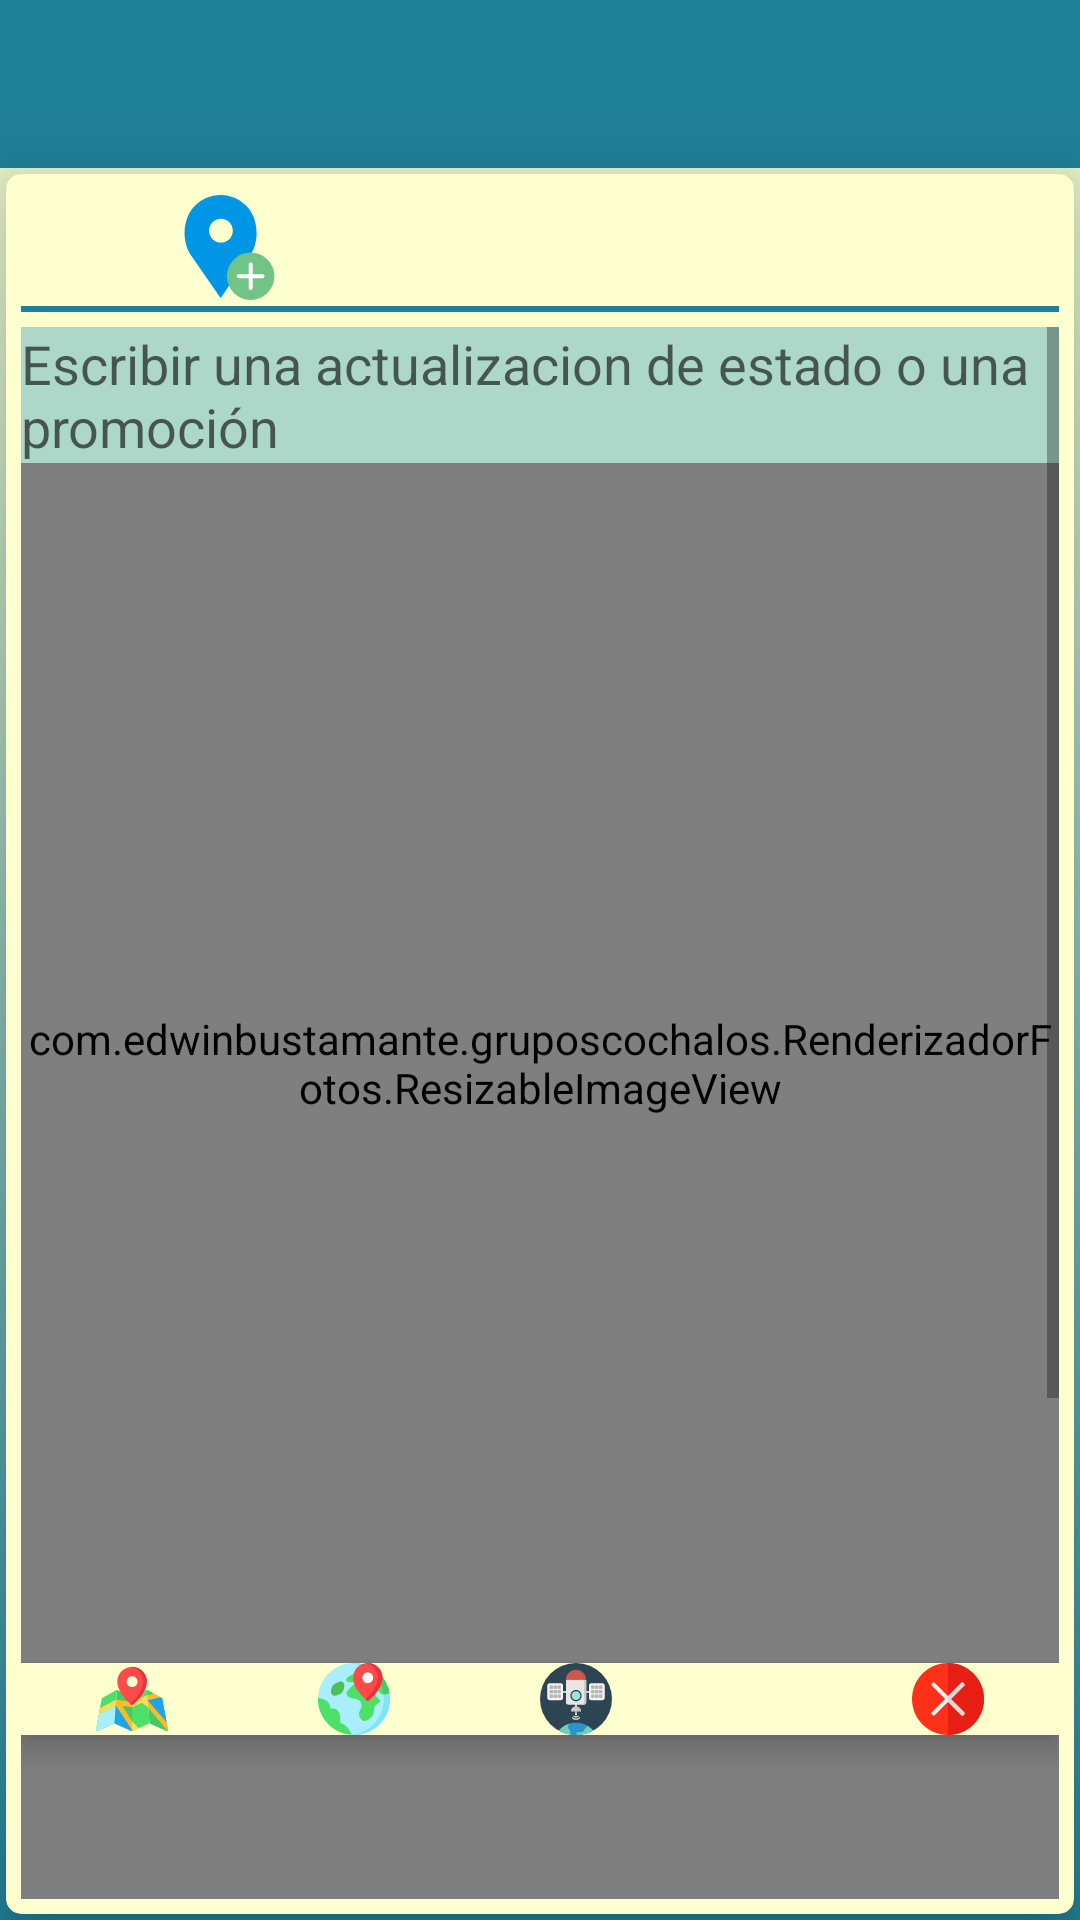

Screen size 1080px x 1920px. Icon name, then its center in pixels as point (x, y):
cerrar: point (948, 1699)
mapa: point (132, 1698)
marcador de posicion publicacion: point (229, 247)
